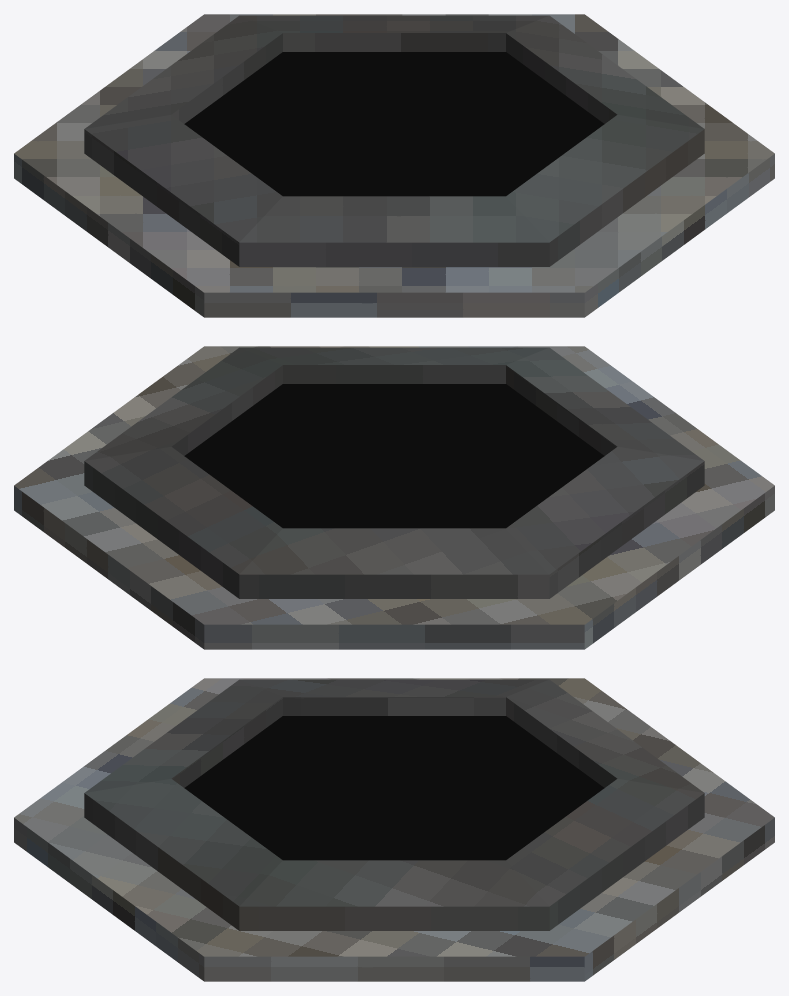
Rendered from fire_trap.gltf.
The picture shows the model from 3 angles, top to bottom: view 1: azimuth 30°, elevation 25°; view 2: azimuth 150°, elevation 25°; view 3: azimuth 270°, elevation 25°; orthographic projection.
Visible parts, largest first — view 1: FireTrap; view 2: FireTrap; view 3: FireTrap.
Part boxes in pixels (x1,y1,x2,y2): FireTrap: (14, 14, 774, 317); FireTrap: (14, 346, 774, 649); FireTrap: (14, 678, 774, 981).
Bounding box in the file's own units: 0.473 × 0.0504 × 0.5462.
Materials: 3 (2 with a texture image).
